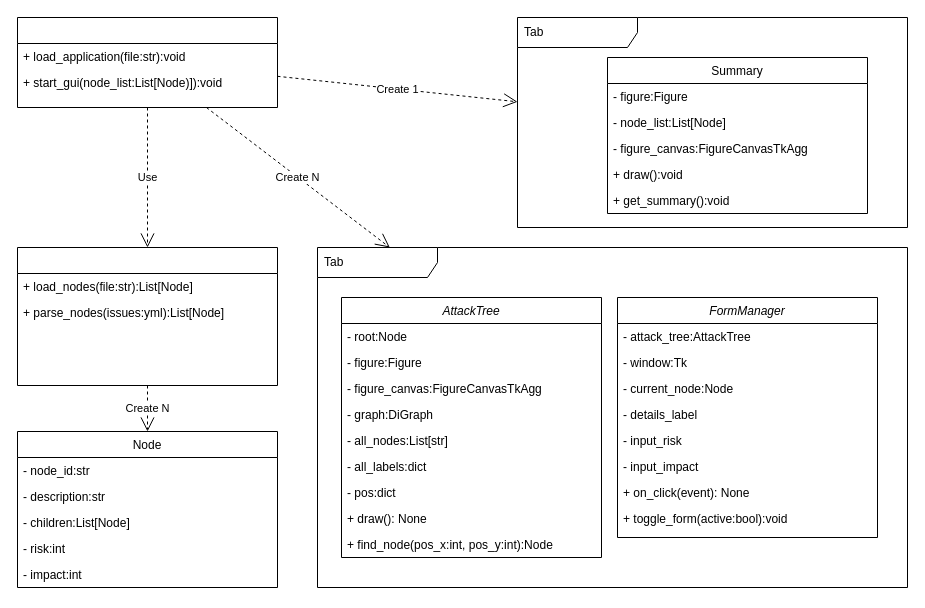
This 925x608 diagram has some shape labels left out. Each missing label, with the box of its shape:
Attack: (16, 16, 278, 108)
FileParser: (16, 246, 278, 386)
